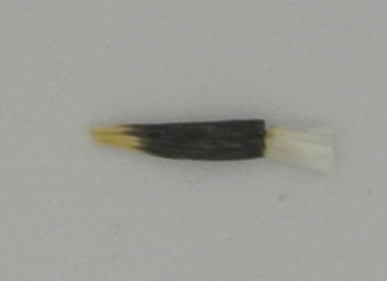เมล็ดดีติดกัน: (84, 119, 336, 176)
